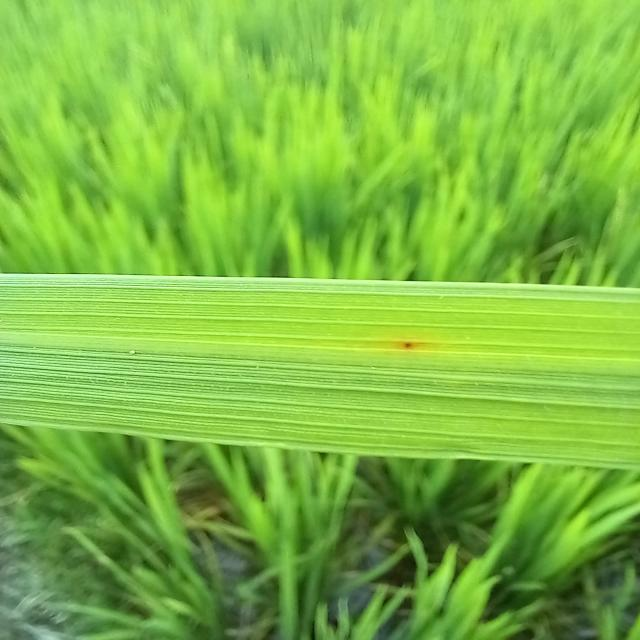Brown_Spot: (388, 335, 423, 356)
